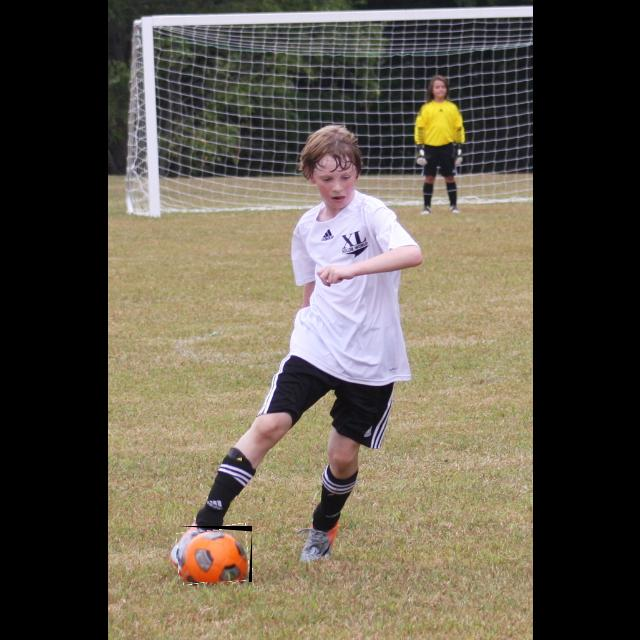Football: (178, 526, 252, 582)
